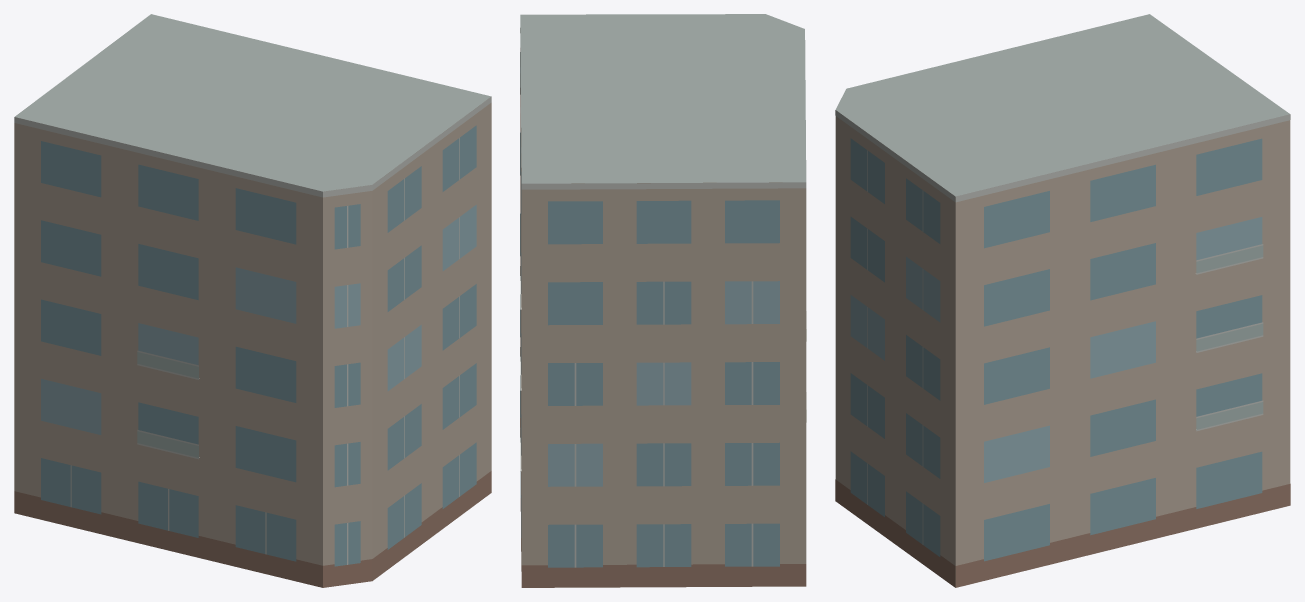
Rendered from survey-upis-32890774.glb.
The picture shows the model from 3 angles, left to right: view 1: azimuth 30°, elevation 25°; view 2: azimuth 150°, elevation 25°; view 3: azimuth 270°, elevation 25°; orthographic projection. The views are drawn at different scales.
Parts seen in each view (by area): view 1: survey-upis-32890774.tmp; view 2: survey-upis-32890774.tmp; view 3: survey-upis-32890774.tmp.
Boxes of the visible parts, x1,y1,x2,y2 form: survey-upis-32890774.tmp: (14,14,491,587); survey-upis-32890774.tmp: (520,14,806,587); survey-upis-32890774.tmp: (835,14,1290,587).
Size of the model in its own units: 16.25 by 16.23 by 17.11.
